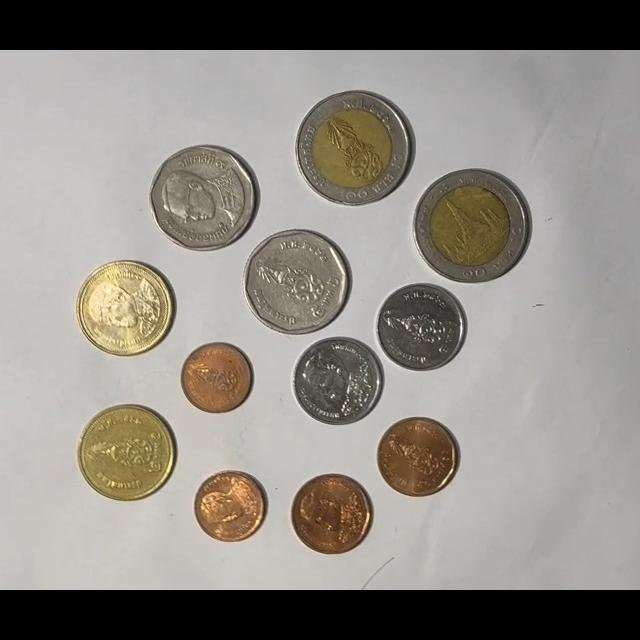1-baht: (292, 336, 383, 426), (375, 283, 467, 372)
10-baht: (295, 90, 414, 207), (414, 168, 530, 283)
2-baht: (77, 405, 176, 501), (76, 260, 173, 357)
25-satang: (194, 470, 268, 544), (181, 342, 253, 414)
5-baht: (149, 145, 258, 252), (244, 228, 350, 336)
50-satang: (291, 473, 374, 555), (377, 417, 459, 497)
